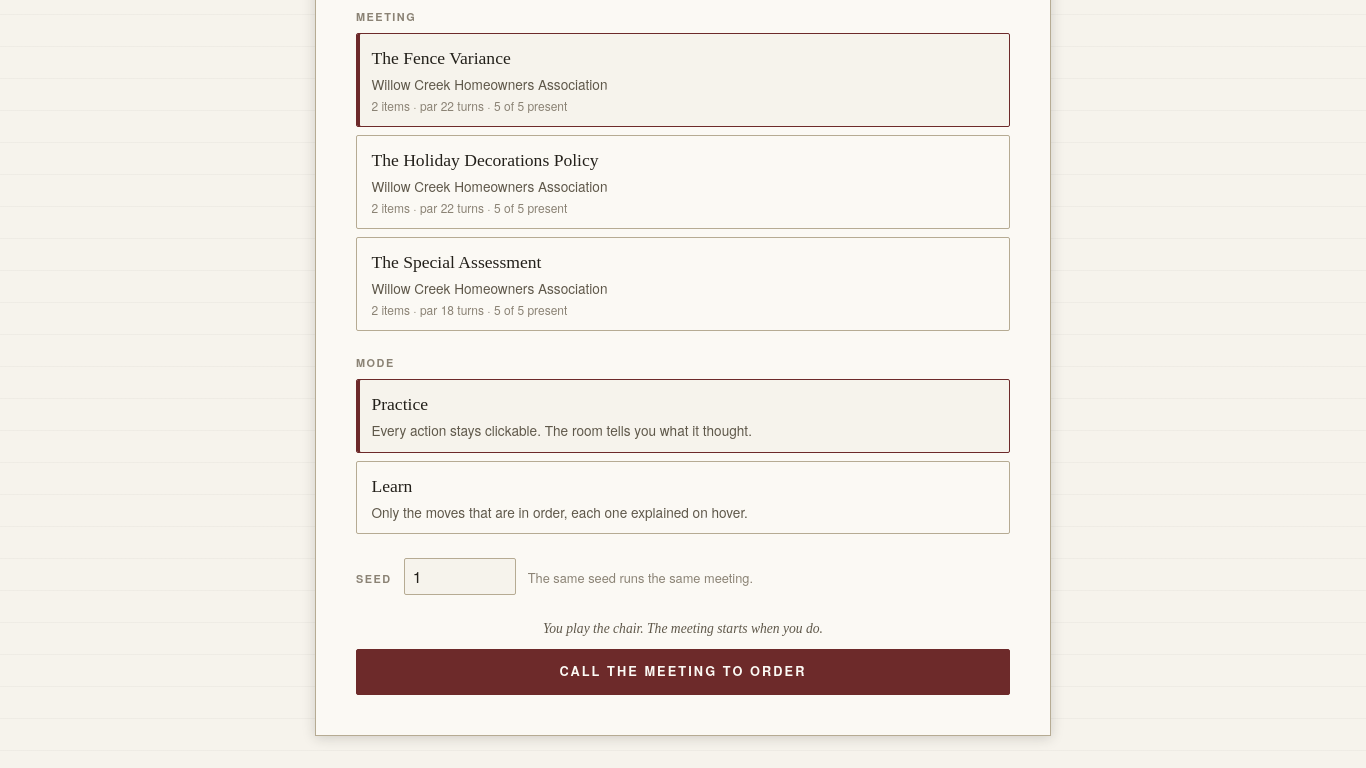
App › returns to Setup holding the choices the player made
This screenshot has width=1366, height=768.
(page scrolled)
Click the button "Learn" at (392, 486), box top-left (356, 461), bottom-right (1010, 534)
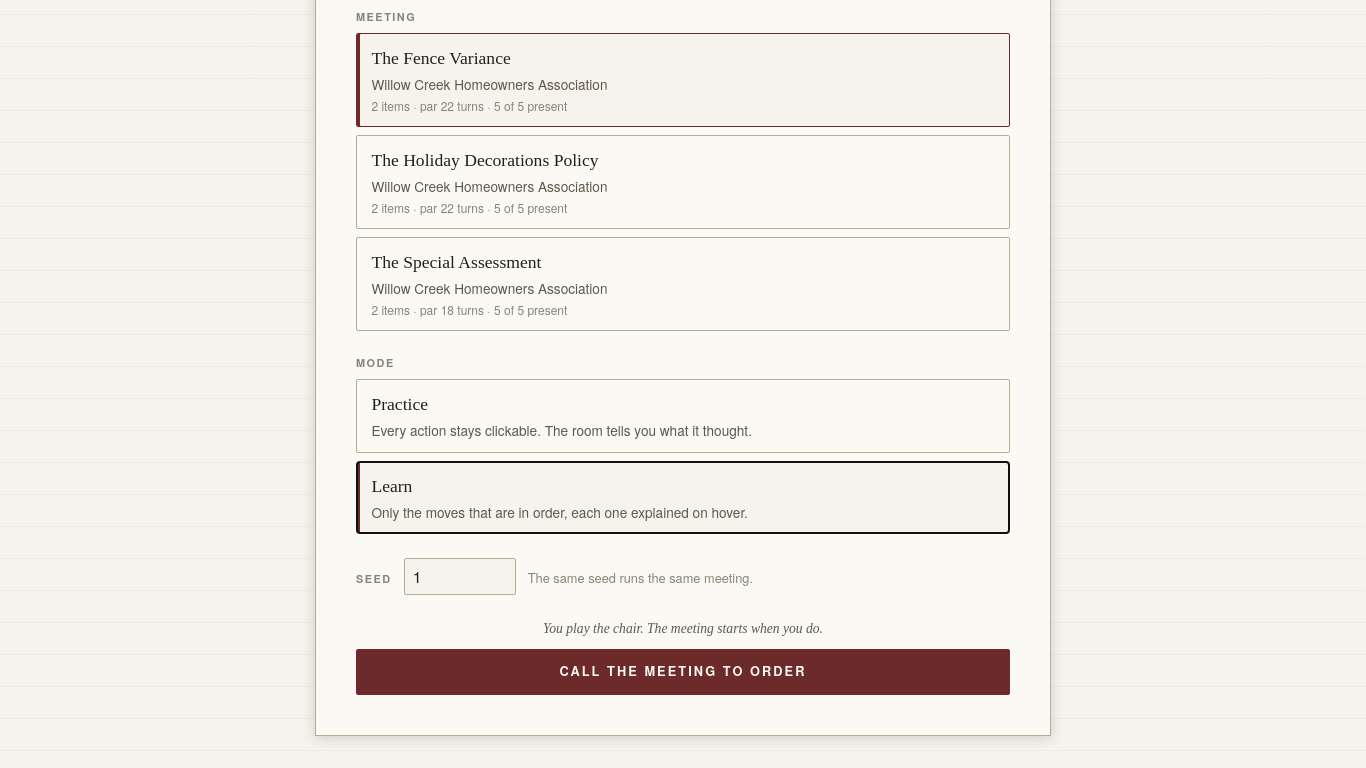
Replace the text in the number field labelled "Seed" with "7" at (460, 577), box top-left (404, 558), bottom-right (516, 595)
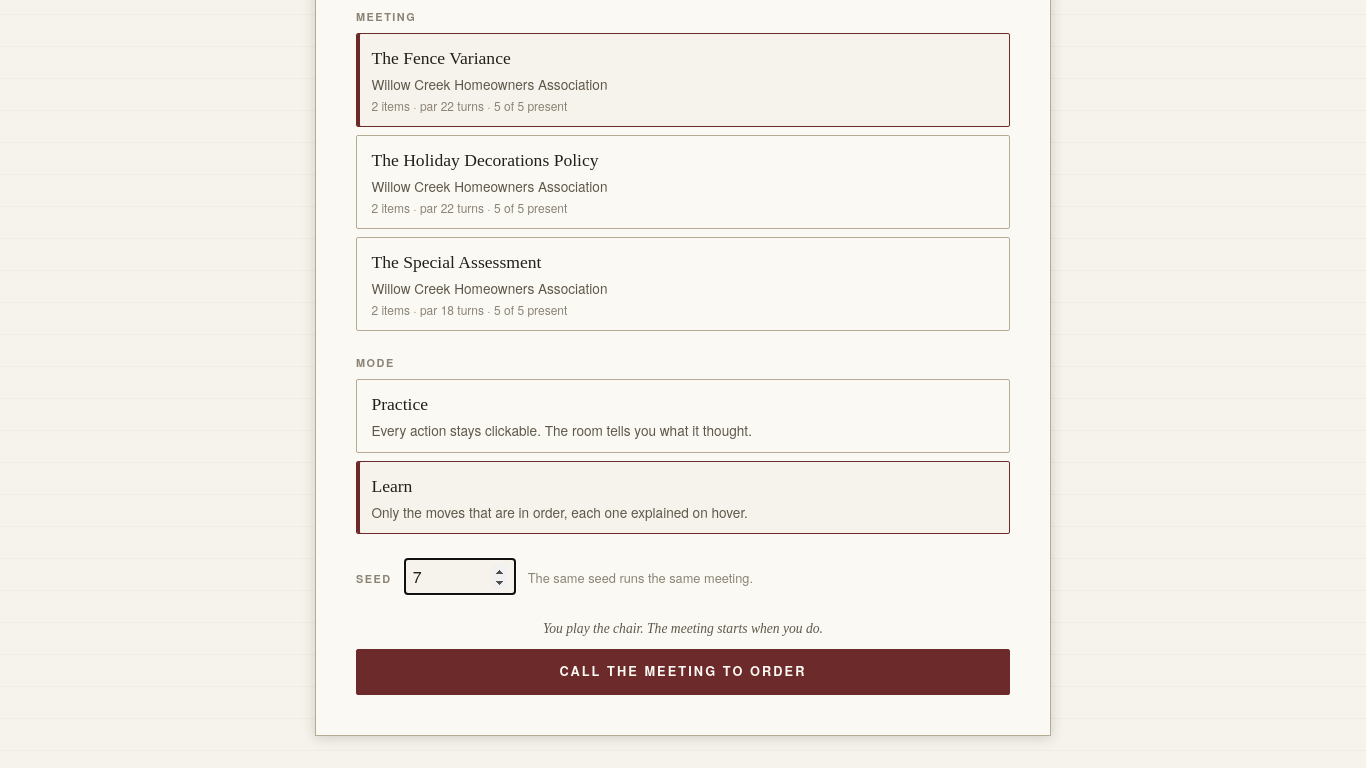
Click the button "Call the meeting to order" at (683, 672), box top-left (356, 649), bottom-right (1010, 694)
(page scrolled)
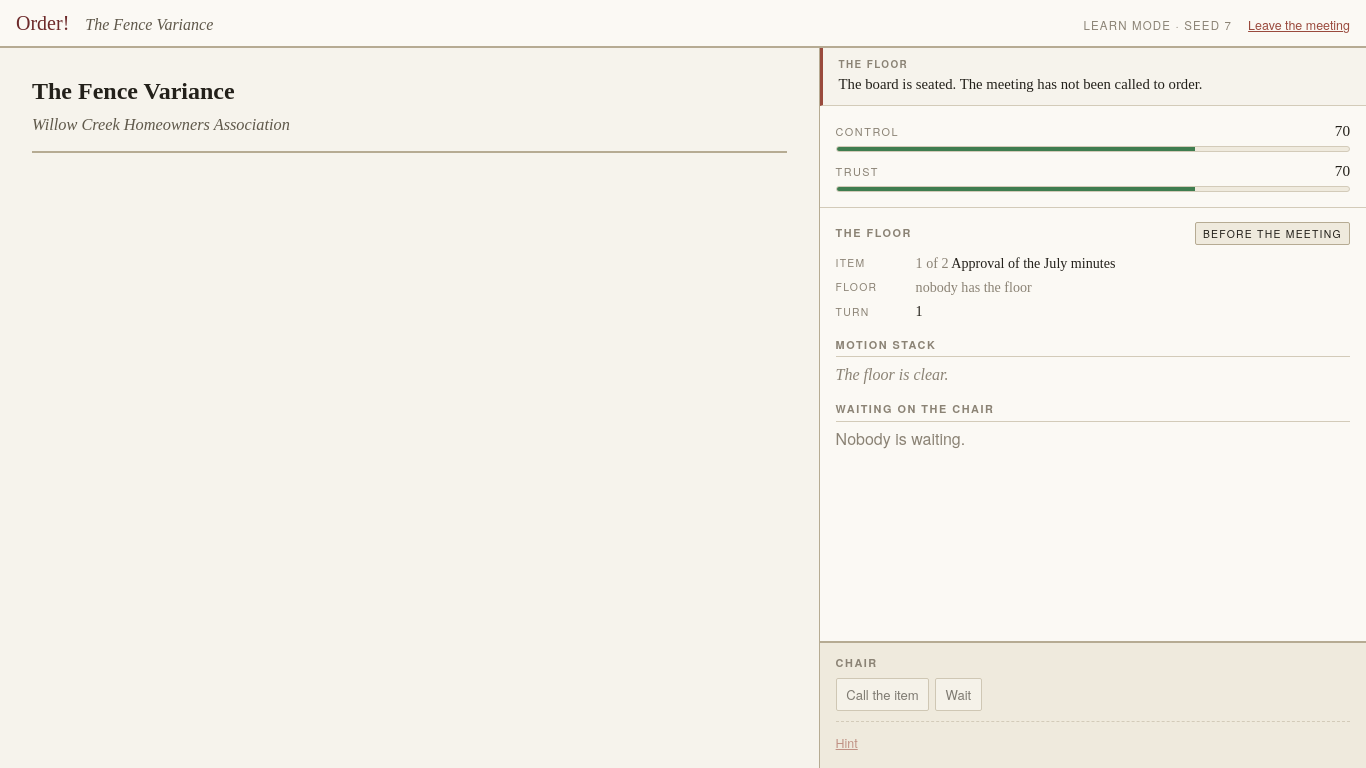
Now the text "Learn mode · seed 7" is shown, box top-left (1084, 17), bottom-right (1232, 34)
Click the button "Leave the meeting" at (1299, 25), box top-left (1248, 16), bottom-right (1350, 35)
(page scrolled)
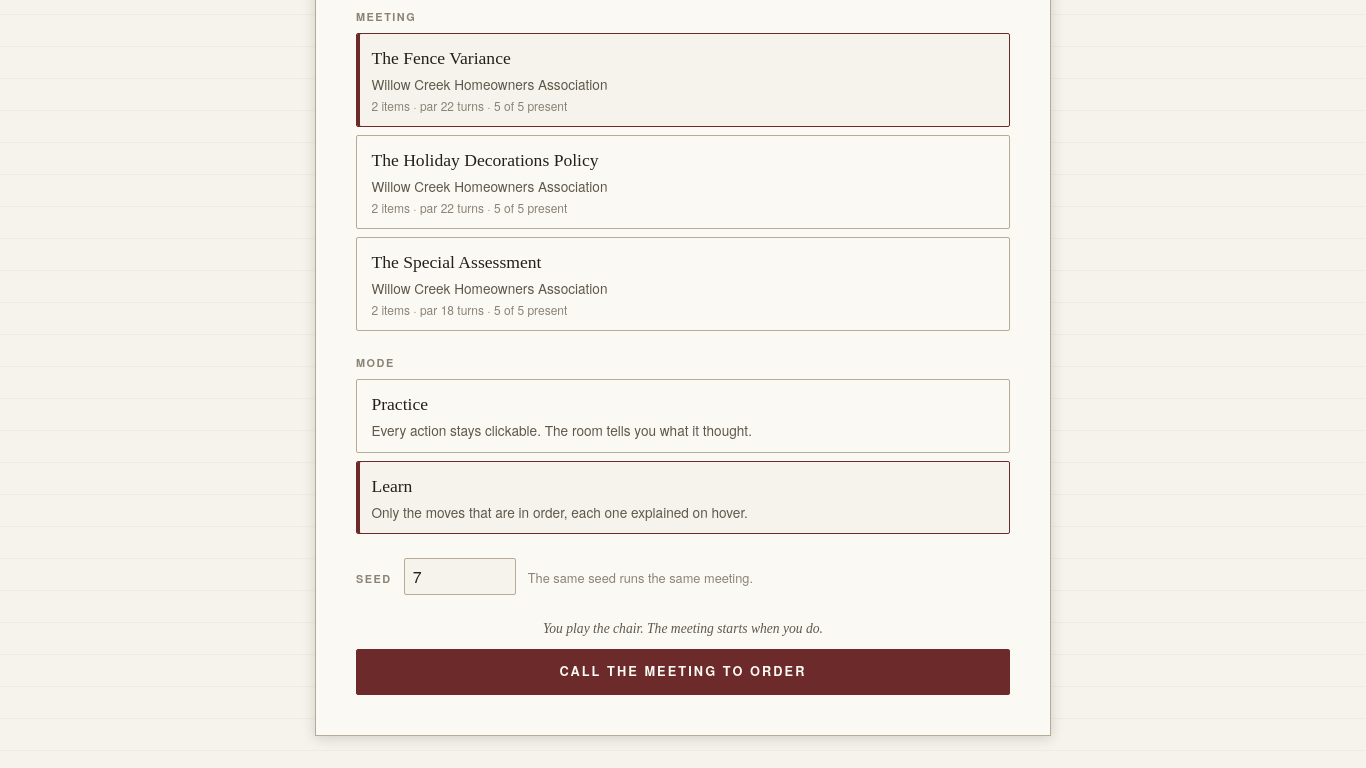
Now the number field labelled "Seed" holds "7", box top-left (404, 558), bottom-right (516, 595)
